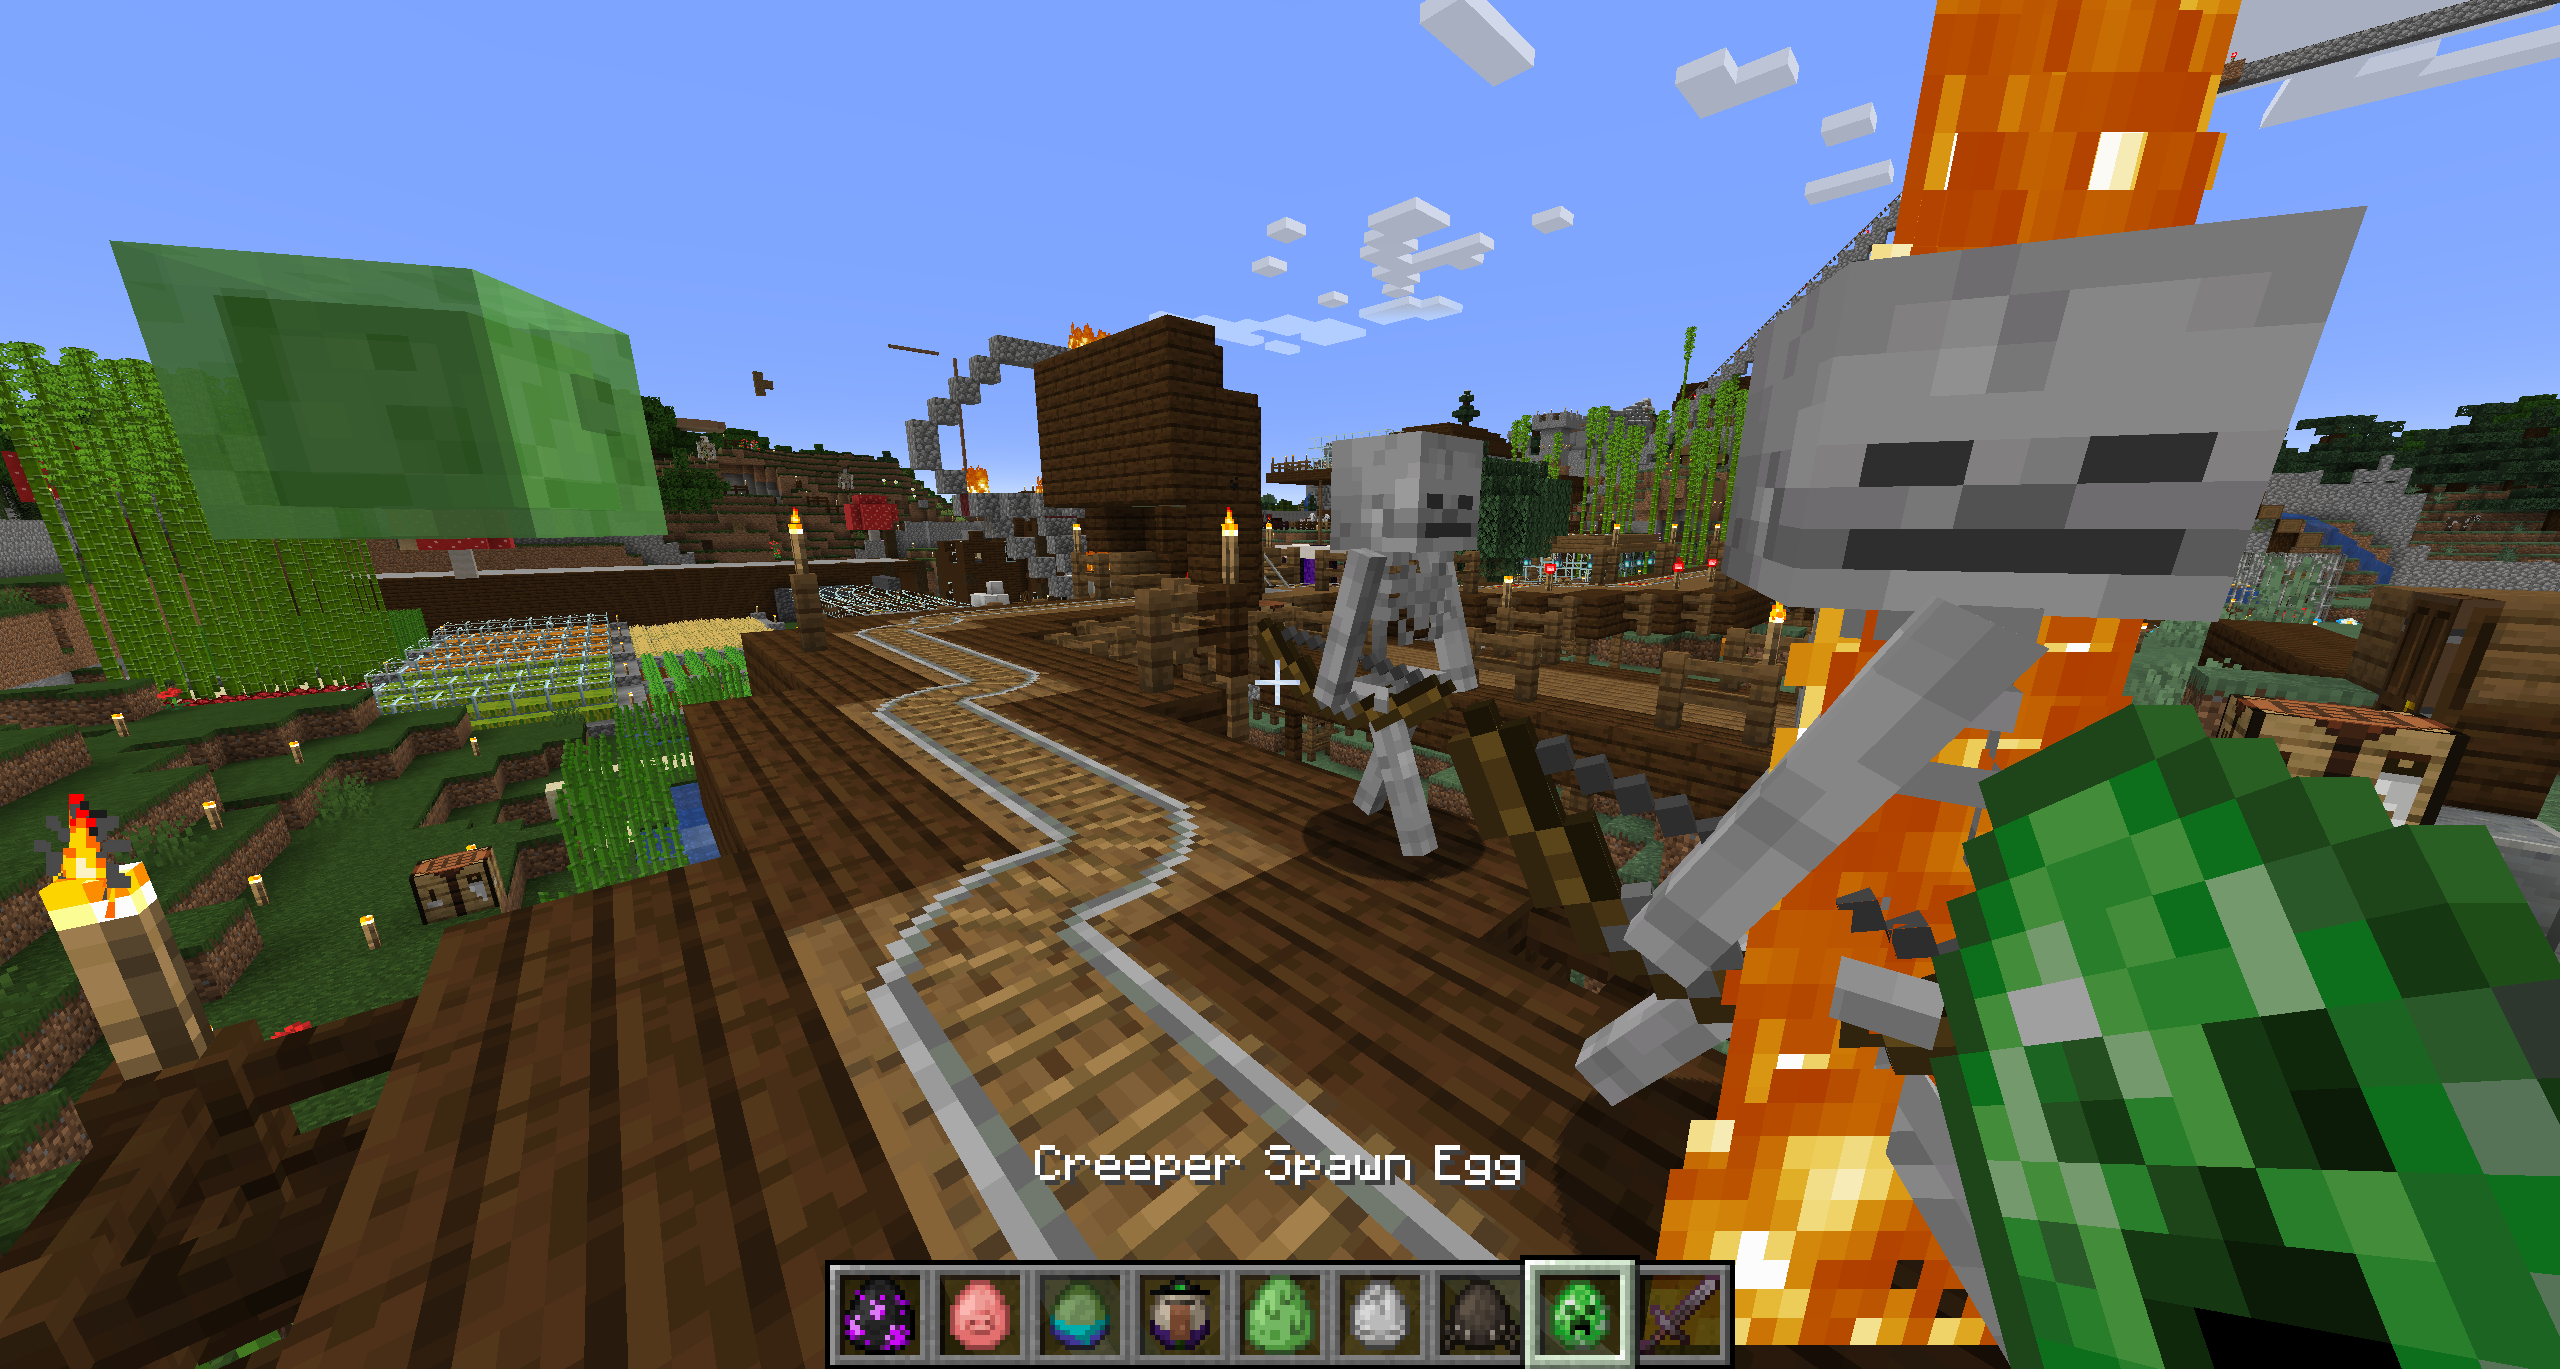slimes: (108, 228, 670, 543)
squelettes: (1568, 157, 2365, 1181), (1310, 430, 1485, 863)
